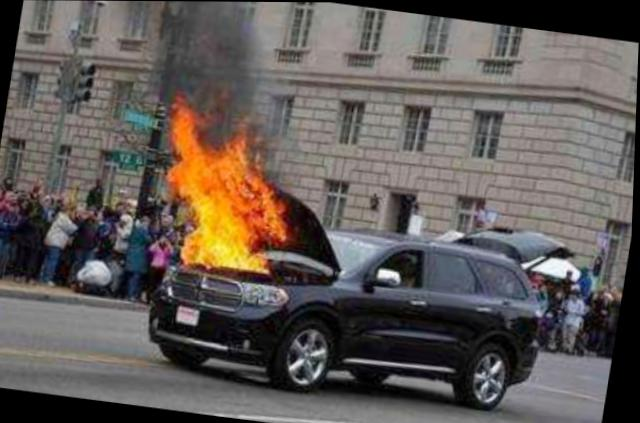fire: (145, 99, 343, 304)
